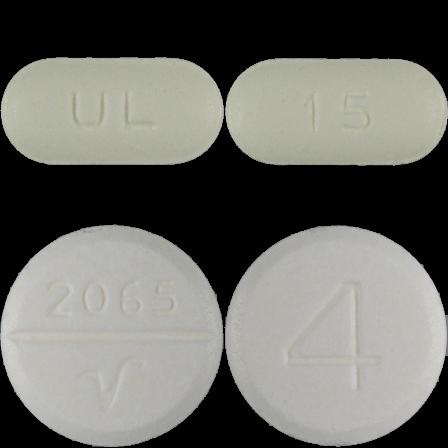61919-469: (0, 0, 224, 224)
